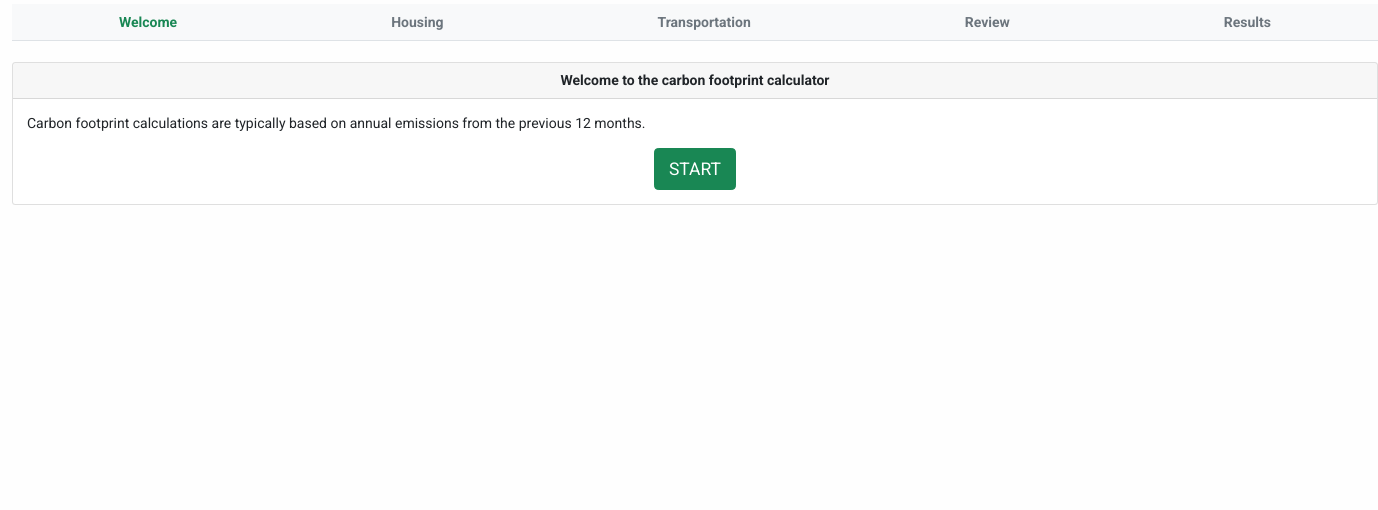
Scenario: Component - Calculator › Should check step 1
Click the button with test id "startBtn". click: (695, 169)
box: 654,148 -> 736,190
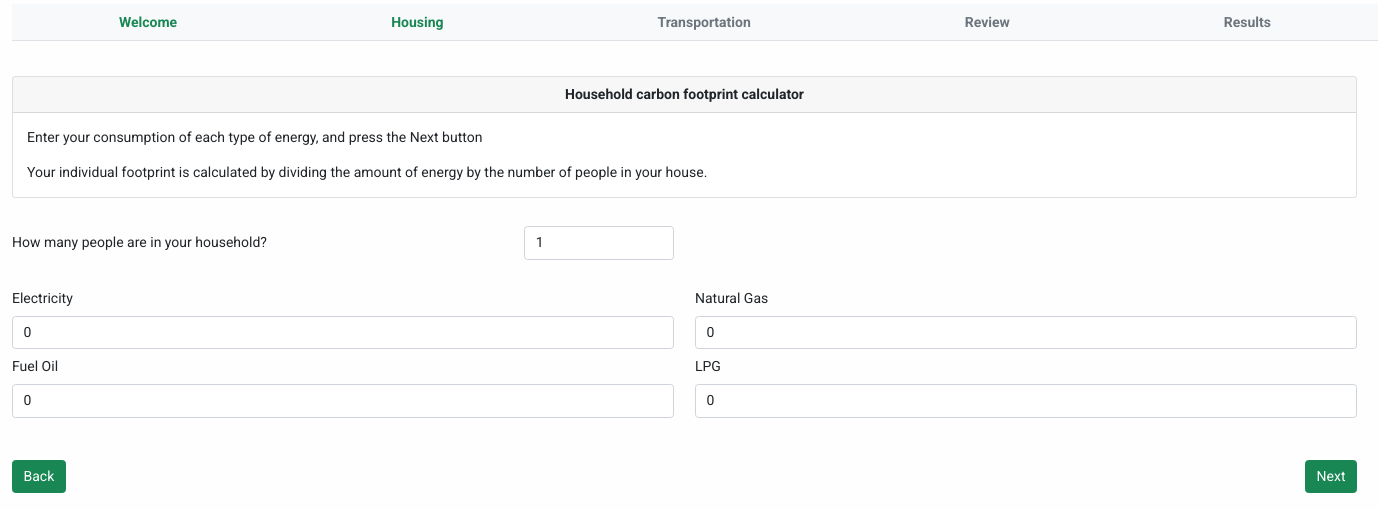
Expected: the text "Household carbon footprint calculator" is shown, 565,86 -> 804,102
